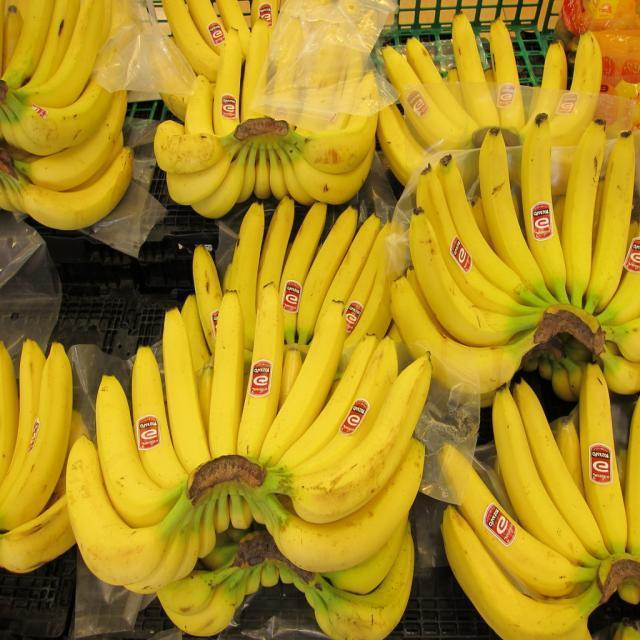Banana: (66, 200, 430, 558), (390, 114, 640, 388), (438, 369, 640, 639), (153, 28, 377, 226), (379, 12, 609, 184), (159, 519, 420, 639), (0, 0, 130, 230), (0, 340, 91, 571), (161, 0, 257, 74)
